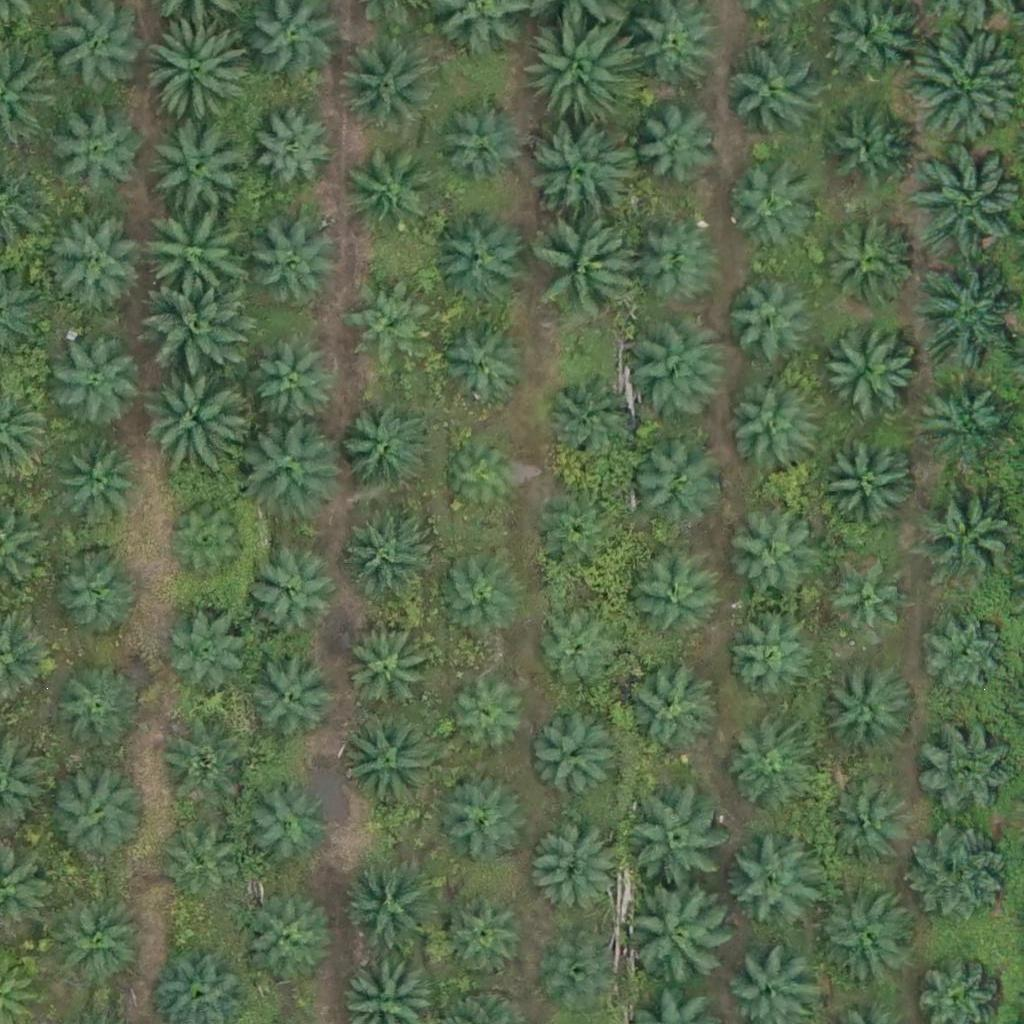Kelapa_Sawit: (620, 882, 733, 996), (907, 30, 1020, 143), (908, 257, 1020, 370), (522, 16, 634, 129), (143, 17, 255, 130), (42, 210, 142, 311), (47, 756, 147, 857), (45, 889, 145, 990), (143, 210, 243, 311), (141, 363, 241, 464), (244, 419, 344, 520), (339, 715, 439, 816), (342, 855, 442, 956), (537, 221, 637, 322), (544, 369, 644, 470), (617, 665, 717, 766), (632, 790, 732, 891), (722, 502, 822, 603), (816, 885, 916, 986), (817, 436, 917, 537), (819, 317, 919, 418), (815, 208, 915, 309), (914, 369, 1014, 470), (917, 480, 1017, 581), (916, 718, 1016, 819), (914, 822, 1014, 923), (721, 42, 821, 143), (151, 112, 251, 213), (45, 99, 145, 200), (148, 281, 248, 381), (427, 212, 527, 312), (434, 316, 534, 416), (627, 323, 727, 423), (723, 828, 823, 928), (528, 124, 628, 224), (337, 36, 437, 136), (343, 408, 431, 497), (52, 547, 140, 635), (53, 667, 141, 755), (167, 611, 255, 699), (160, 725, 248, 813), (253, 343, 341, 431), (245, 554, 333, 642), (249, 655, 337, 743), (241, 784, 329, 872), (346, 151, 434, 239), (346, 278, 434, 366), (343, 514, 431, 602), (539, 493, 627, 581), (629, 220, 717, 308), (630, 441, 718, 529), (626, 553, 714, 641), (727, 278, 815, 366), (727, 385, 815, 473), (724, 618, 812, 706), (826, 662, 914, 750), (921, 612, 1009, 700), (822, 103, 910, 191), (433, 104, 521, 192), (55, 433, 142, 522), (820, 555, 907, 644), (55, 343, 142, 431), (158, 820, 245, 908), (161, 502, 248, 590), (248, 900, 335, 988), (250, 222, 337, 310), (346, 628, 433, 716), (441, 892, 528, 980), (441, 774, 528, 862), (448, 670, 535, 758), (436, 547, 523, 635), (535, 610, 622, 698), (534, 719, 621, 807), (531, 827, 618, 915), (723, 725, 810, 813), (821, 783, 908, 871), (720, 167, 807, 255), (631, 99, 718, 187), (252, 102, 339, 190), (446, 441, 521, 517), (545, 937, 620, 1013)
